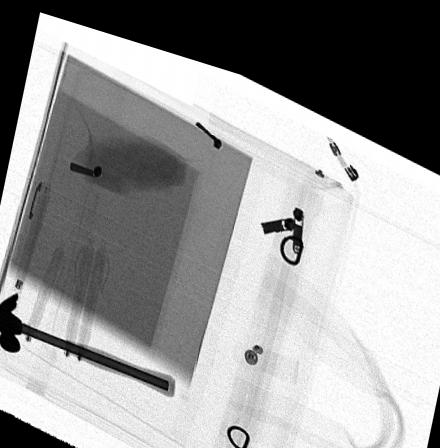Hammer: (0, 291, 176, 387)
